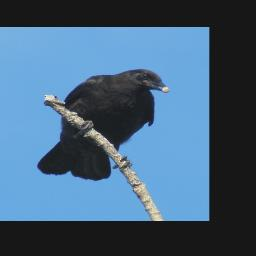Crow: (36, 68, 171, 182)
